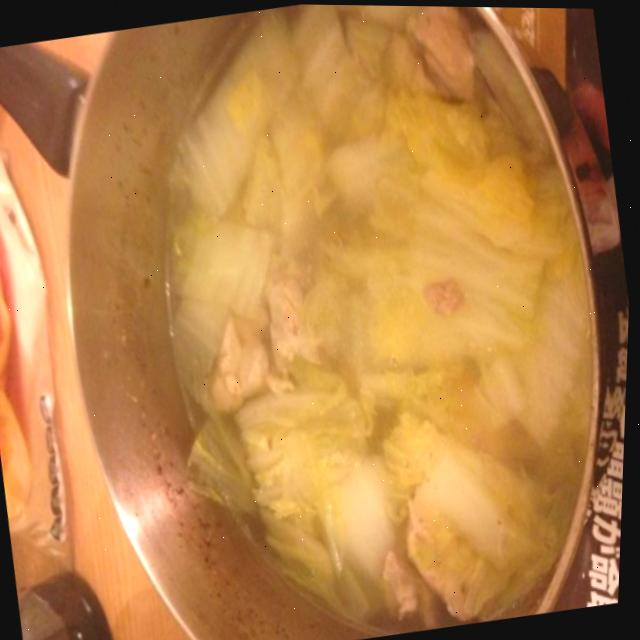汤锅炖物: (19, 0, 640, 640)
